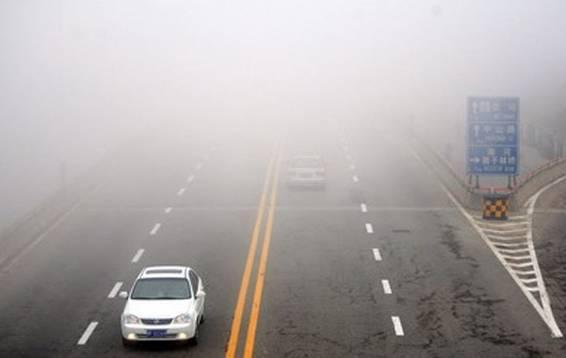car: (118, 265, 206, 348), (284, 155, 326, 188)
